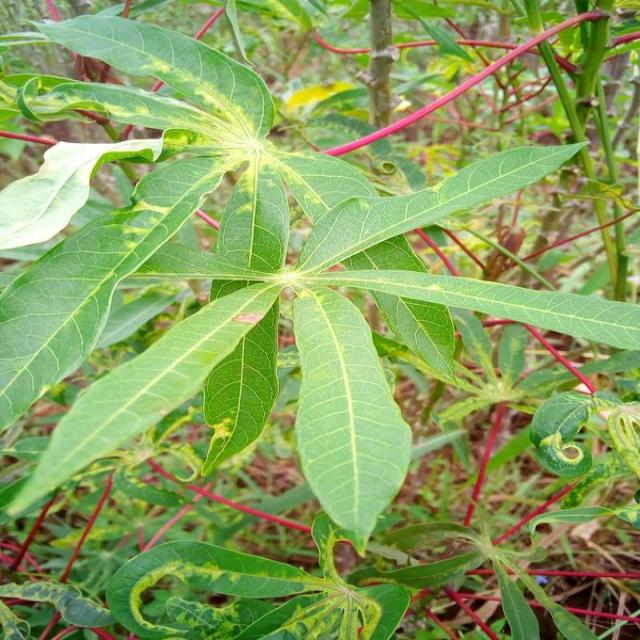cassava leaf: (0, 9, 635, 552), (291, 282, 413, 554)
